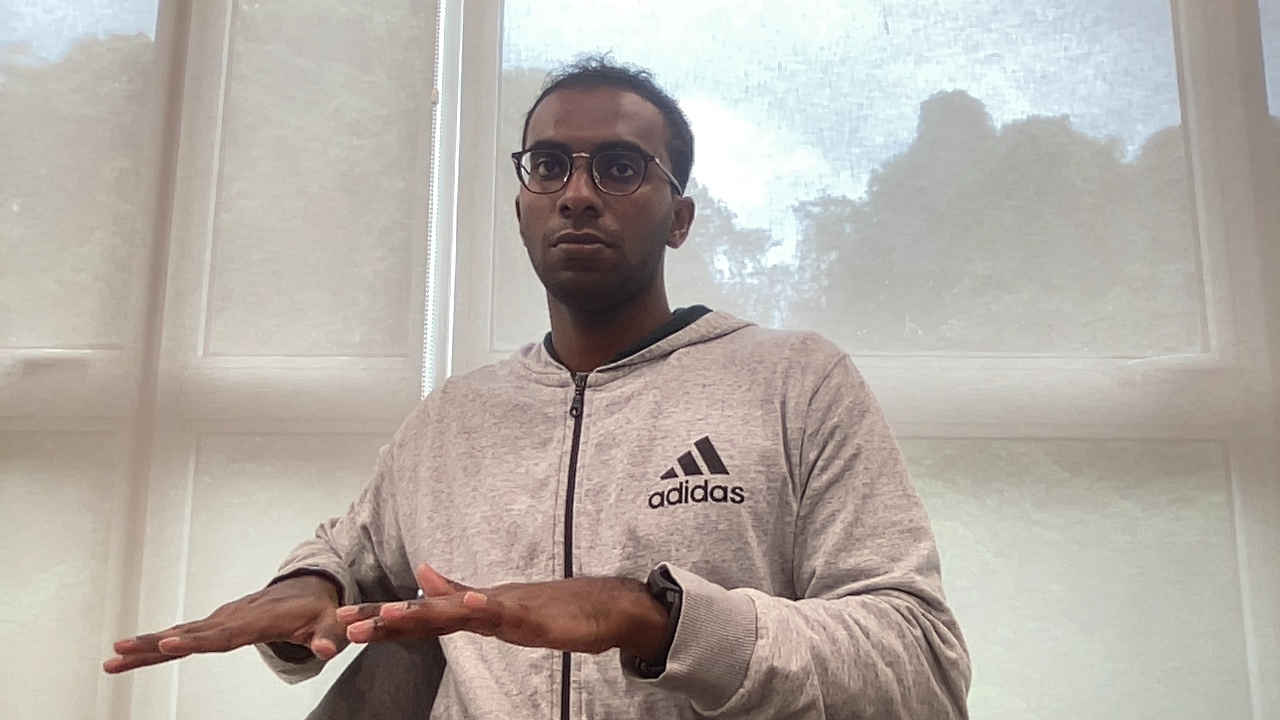finish: (96, 556, 619, 682)
